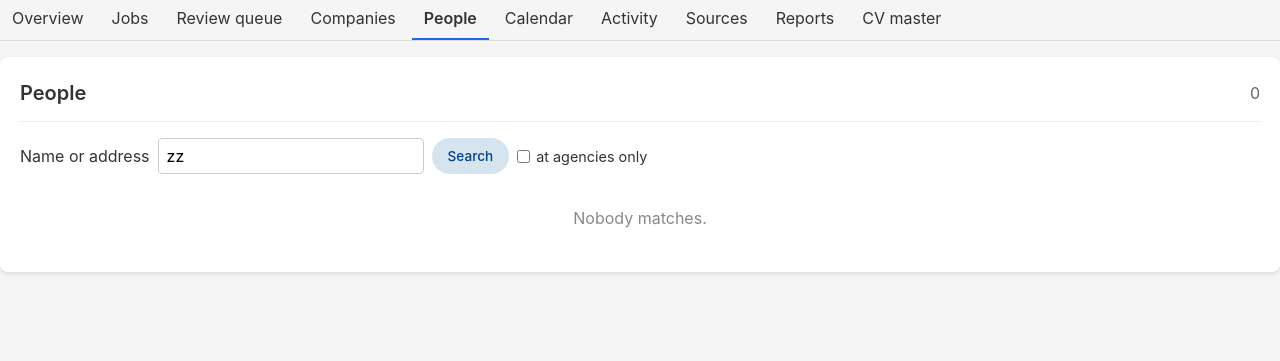
Scenario: MasiPersons › says so when nobody matches, and shows a failure instead of a blank page
Expected: the text "Nobody matches." is shown, left=573, top=208, right=707, bottom=228
Step 1. Replace the text in the search field labelled "Name or address" with "kask" → (291, 156), box left=158, top=138, right=424, bottom=174
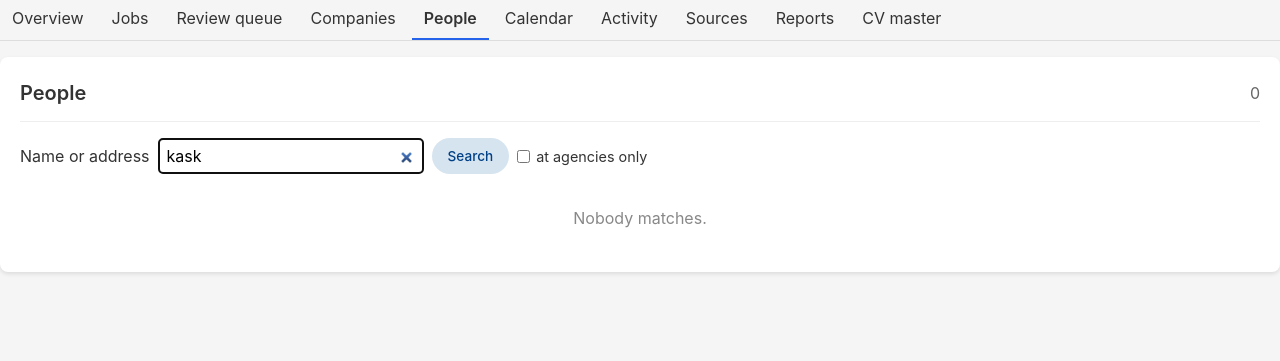
Step 2. Click the button "Search" → (470, 156), box left=432, top=138, right=509, bottom=174
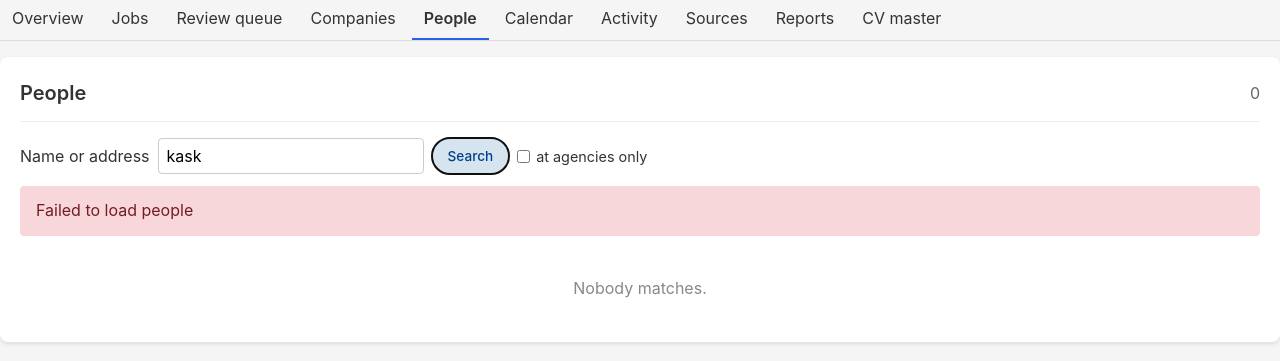
Now the message reads "Failed to load people", box left=36, top=200, right=193, bottom=220
